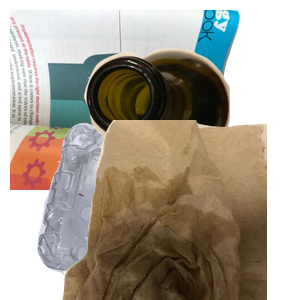glass: (82, 46, 300, 199)
paper: (10, 10, 250, 190)
plastic: (35, 120, 275, 300)
trash: (60, 120, 300, 300)
